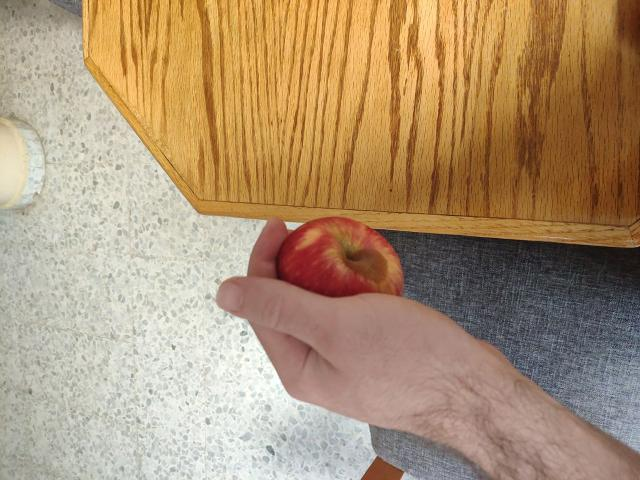apple: (269, 208, 410, 342)
